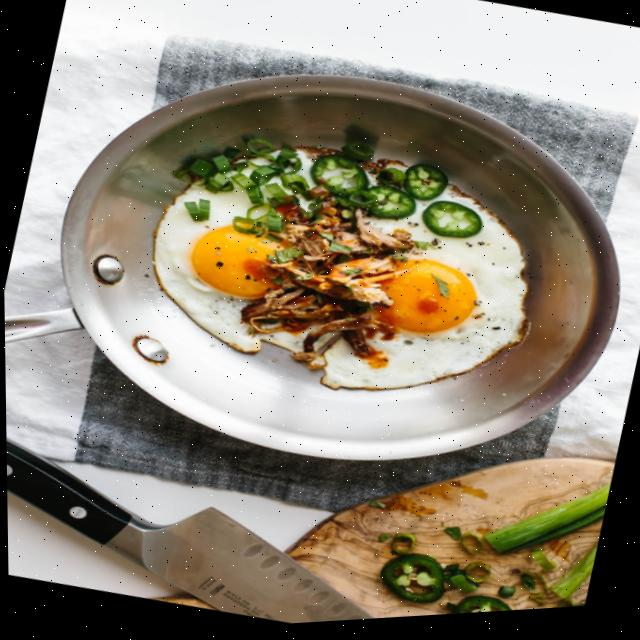Egg: (320, 191, 526, 393), (151, 187, 307, 356)
